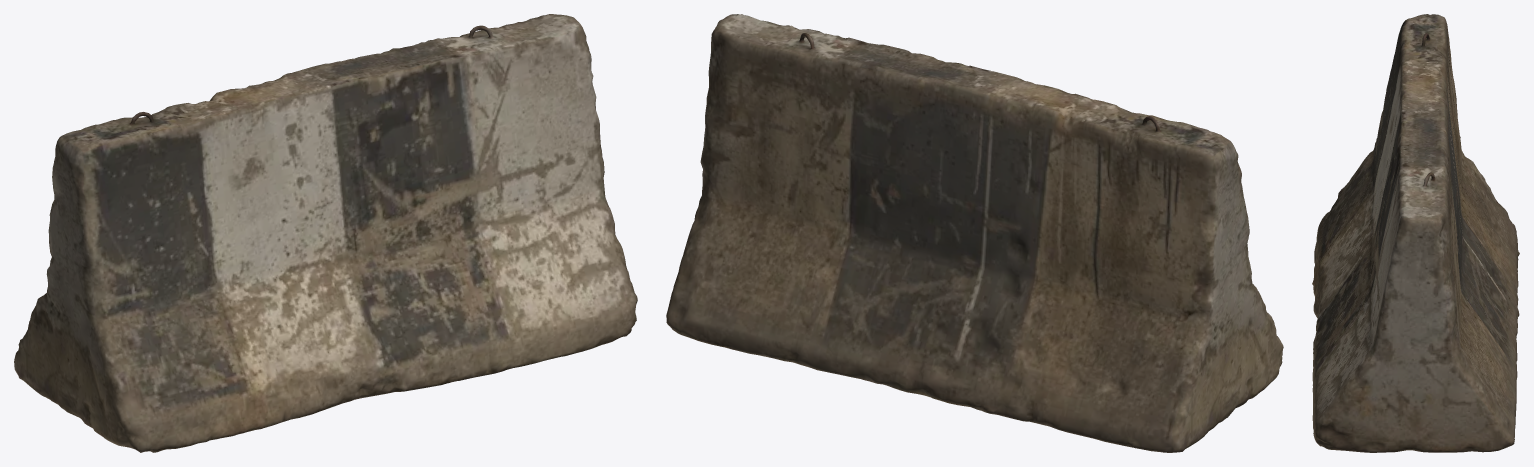
File: concrete_road_barrier.glb
3 renders of one model, left to right at view 1: azimuth 30°, elevation 25°; view 2: azimuth 150°, elevation 25°; view 3: azimuth 270°, elevation 25°, orthographic. The views are drawn at different scales.
Parts seen in each view (by area): view 1: concrete_road_barrier; view 2: concrete_road_barrier; view 3: concrete_road_barrier.
Part boxes in pixels (x1,y1,x2,y2): concrete_road_barrier: [14, 14, 637, 452]; concrete_road_barrier: [666, 14, 1283, 452]; concrete_road_barrier: [1312, 14, 1519, 452].
Bounding box in the file's own units: 1.54 × 0.8309 × 0.6386.
Materials: 1 (1 with a texture image).
